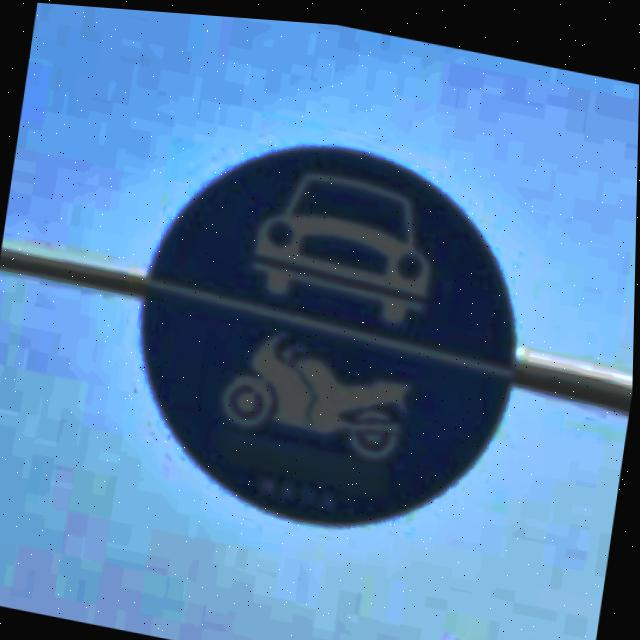carmotorcycle: (112, 102, 544, 553)
